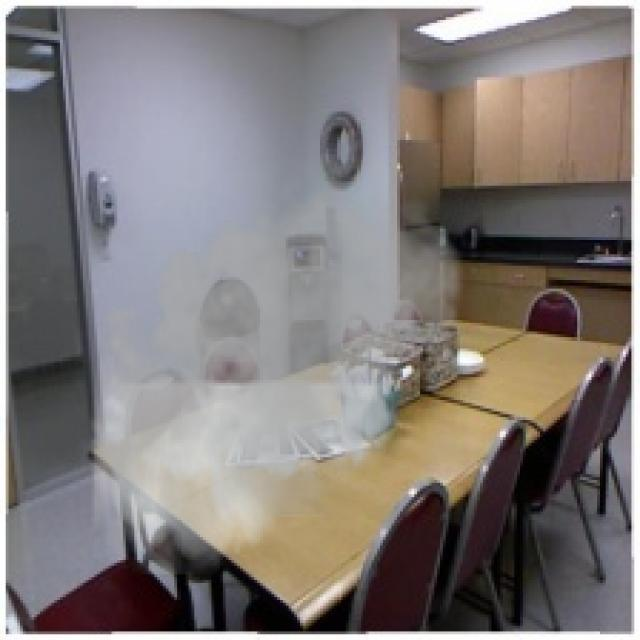Smoke: (77, 168, 472, 574)
